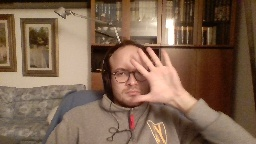Mano_aperta: (129, 44, 181, 107)
